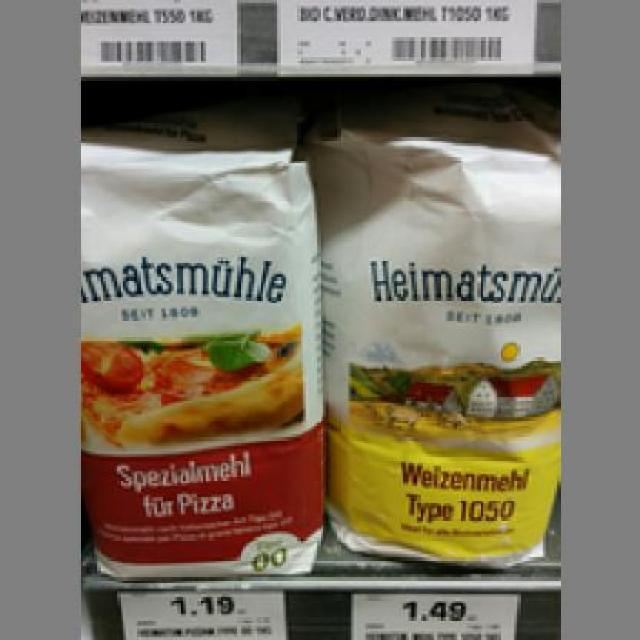Flour: (77, 139, 326, 572), (317, 137, 557, 566)
